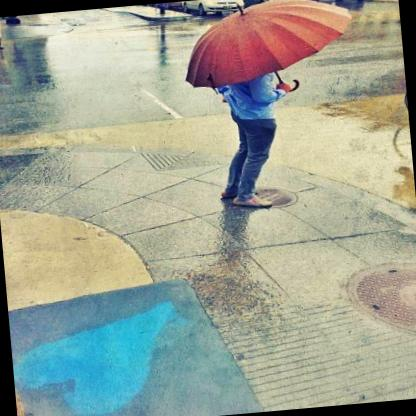manholes: (332, 246, 416, 356)
